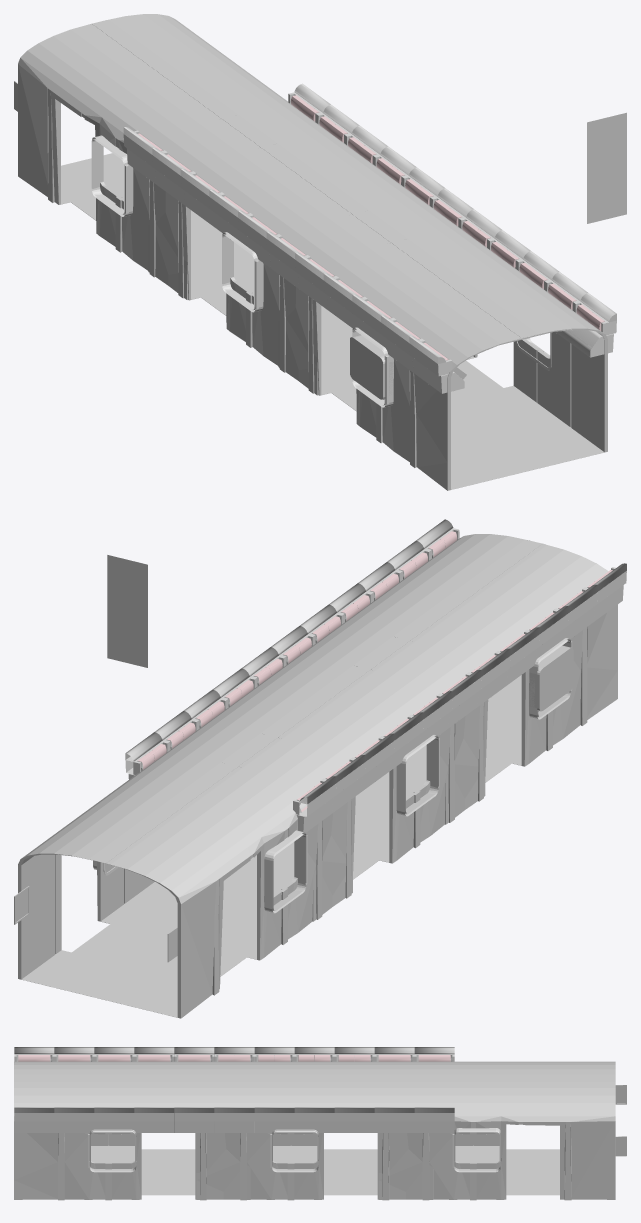
The model's file is interior_metroflip.fbx.
The picture shows the model from 3 angles, top to bottom: view 1: azimuth 30°, elevation 25°; view 2: azimuth 150°, elevation 25°; view 3: azimuth 270°, elevation 25°; orthographic projection. The views are drawn at different scales.
Parts seen in each view (by area): view 1: Plane.006; view 2: Plane.006; view 3: Plane.006.
Boxes of the visible parts, x1,y1,x2,y2 form: Plane.006: [14, 14, 626, 490]; Plane.006: [14, 519, 626, 1018]; Plane.006: [14, 1047, 626, 1200].
Bounding box in the file's own units: 1756 × 845 × 3790.
